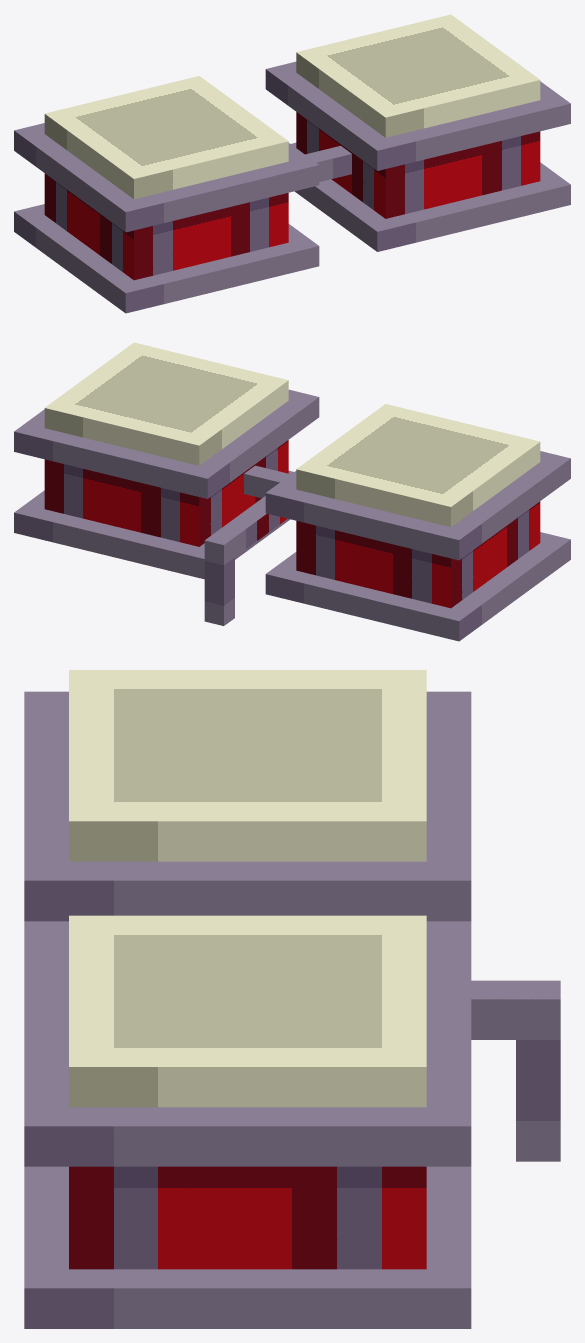
Rendered from int_tomsao.fezao.glb.
3 renders of one model, top to bottom at view 1: azimuth 30°, elevation 25°; view 2: azimuth 150°, elevation 25°; view 3: azimuth 270°, elevation 25°, orthographic. The views are drawn at different scales.
Parts seen in each view (by area): view 1: INT_TOMSAO; view 2: INT_TOMSAO; view 3: INT_TOMSAO.
Part boxes in pixels (x1,y1,x2,y2): INT_TOMSAO: (14, 14, 570, 313); INT_TOMSAO: (14, 342, 570, 641); INT_TOMSAO: (24, 670, 560, 1328).
Size of the model in its own units: 1.44 by 0.4375 by 0.75.
Materials: 1 (1 with a texture image).
